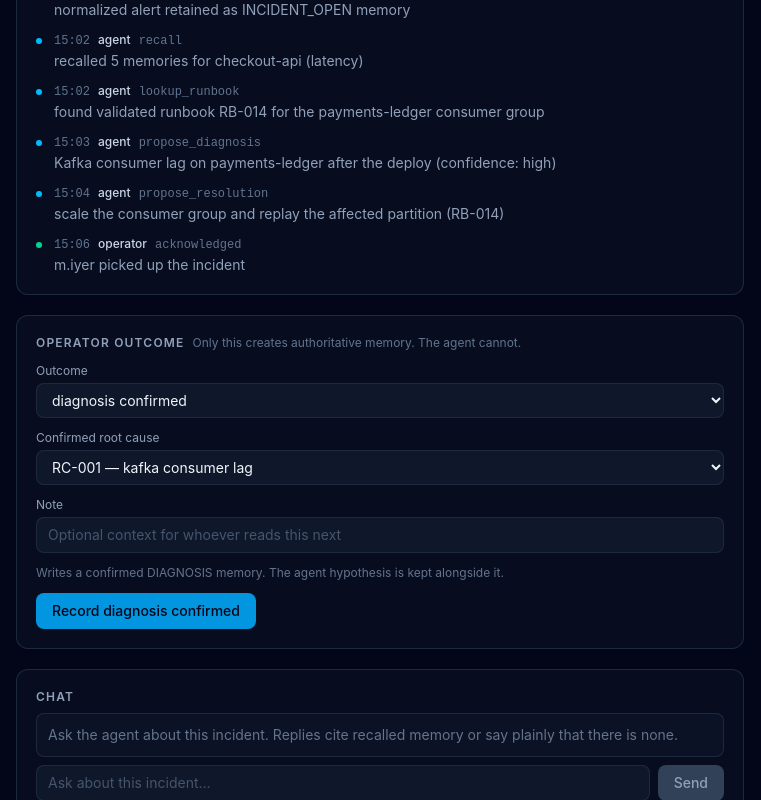
Test: operator feedback › prefills the validated fix and runbook when confirming a resolution
The width and height of the screenshot is (761, 800).
(page scrolled)
Expected: the dropdown labelled "Confirmed root cause" shows "RC-001 — kafka consumer lag", [36, 450, 724, 485]
Select "resolution confirmed" in the dropdown labelled "Outcome" at (380, 400), box [36, 383, 724, 418]
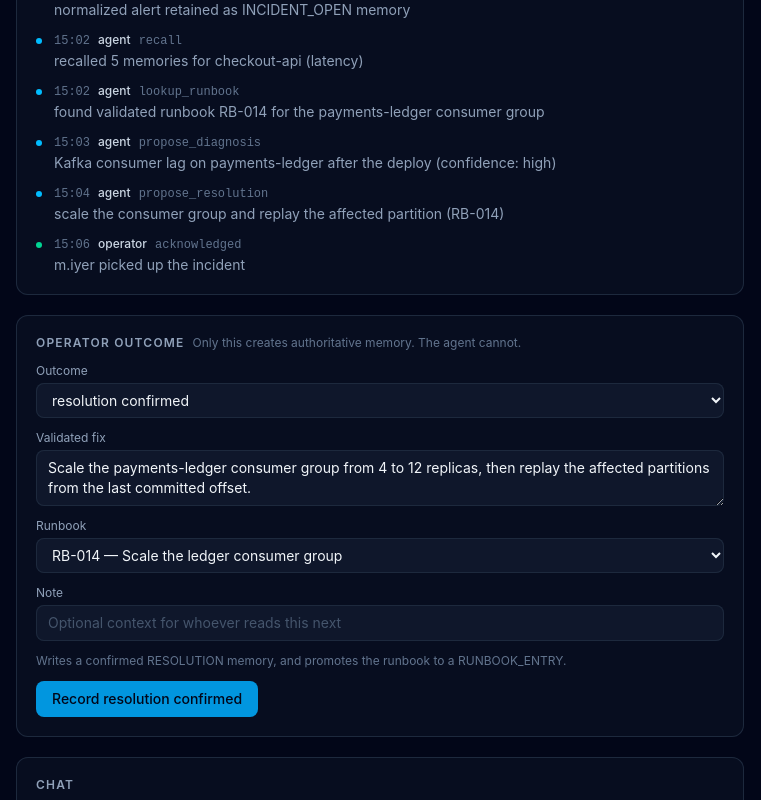
Now the dropdown labelled "Runbook" shows "RB-014 — Scale the ledger consumer group", box [36, 538, 724, 573]
